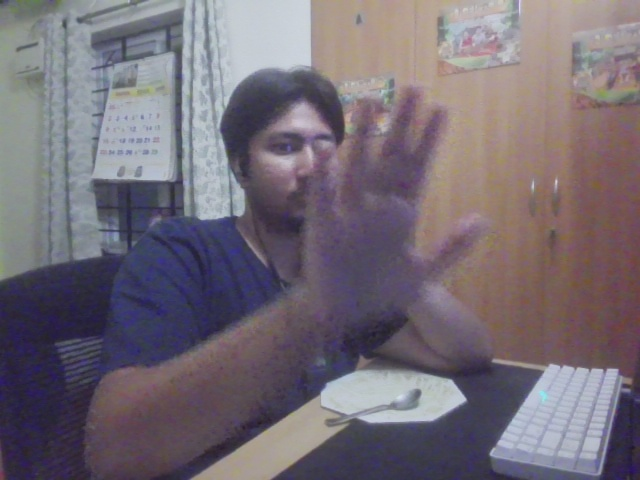hello: (297, 82, 491, 348)
